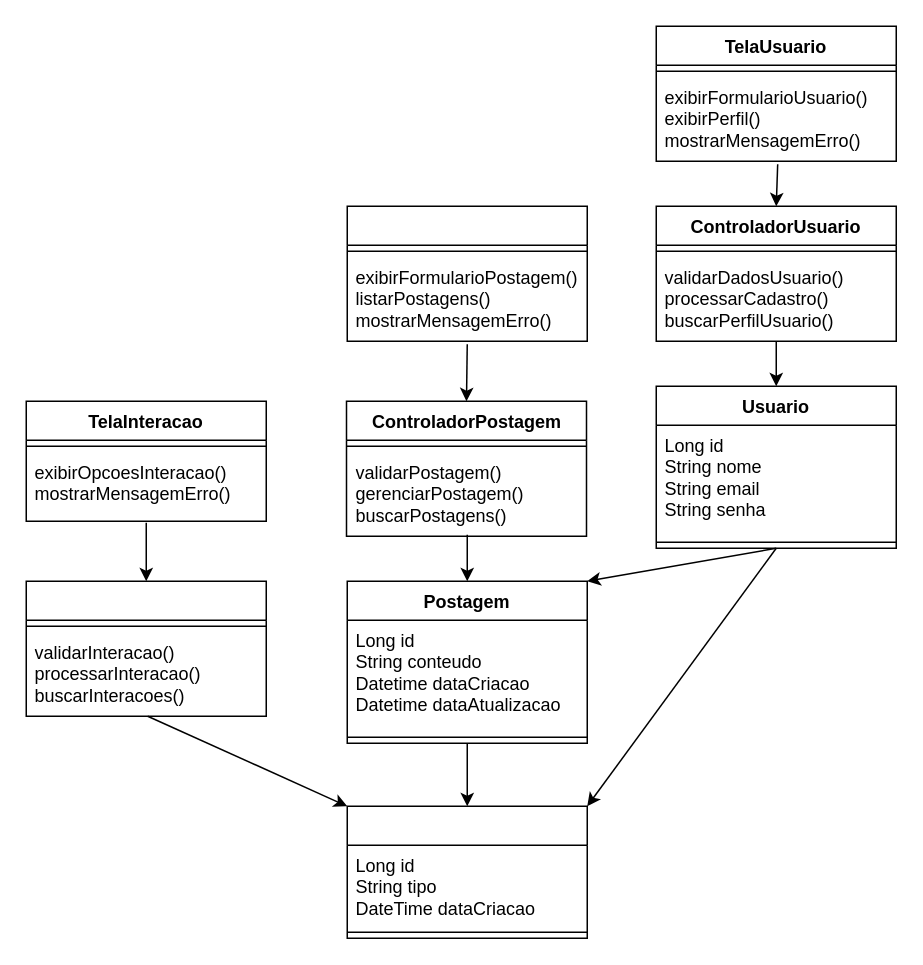
Some shapes in this 923 by 965 pixel diagram are drawn without their labels. The box of each missing label's shape, as (x1, y1, x2, y2) in pixels:
ControladorInteracao: (25, 580, 266, 716)
Interacao: (346, 805, 587, 938)
TelaPostagem: (346, 205, 587, 341)
